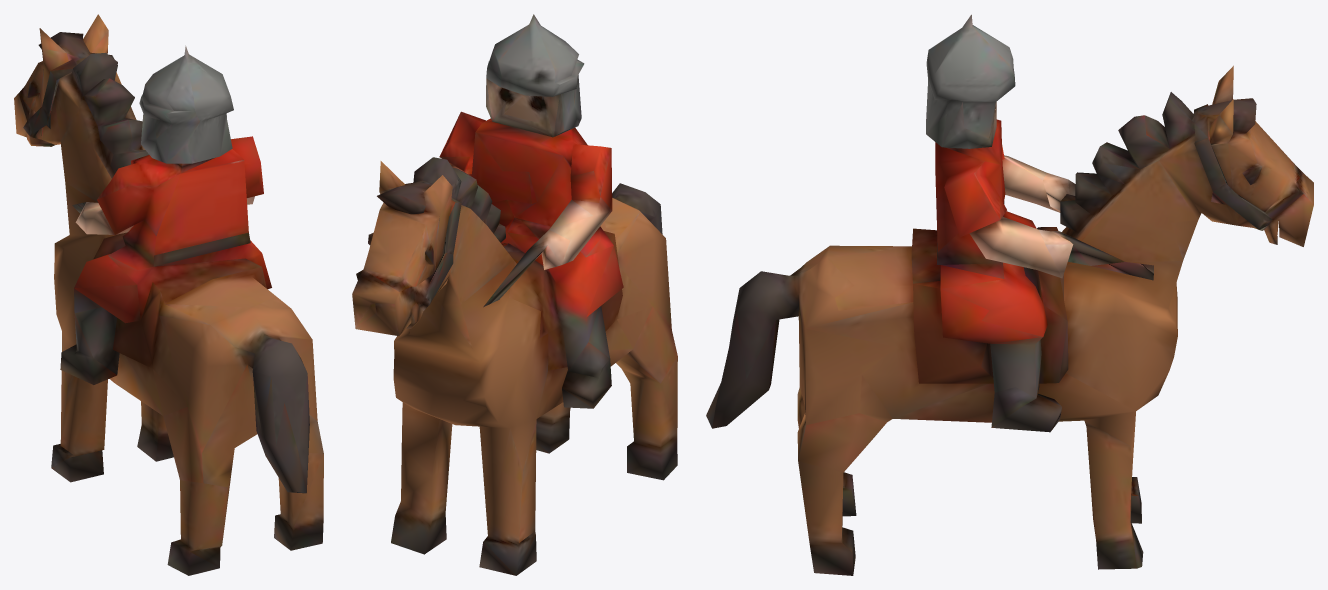
The model's file is rider.glb.
3 views of the same model, side by side, from view 1: azimuth 30°, elevation 25°; view 2: azimuth 150°, elevation 25°; view 3: azimuth 270°, elevation 25° (orthographic). The views are drawn at different scales.
Visible parts, largest first — view 1: tripo_node_9e74143d-06b7-4536-9680-b3ed2d230476; view 2: tripo_node_9e74143d-06b7-4536-9680-b3ed2d230476; view 3: tripo_node_9e74143d-06b7-4536-9680-b3ed2d230476.
Part boxes in pixels (x1,y1,x2,y2): tripo_node_9e74143d-06b7-4536-9680-b3ed2d230476: (14,14,323,575); tripo_node_9e74143d-06b7-4536-9680-b3ed2d230476: (352,14,677,575); tripo_node_9e74143d-06b7-4536-9680-b3ed2d230476: (706,14,1313,575).
Bounding box in the file's own units: 0.3918 × 0.949 × 1.
Materials: 1 (1 with a texture image).
